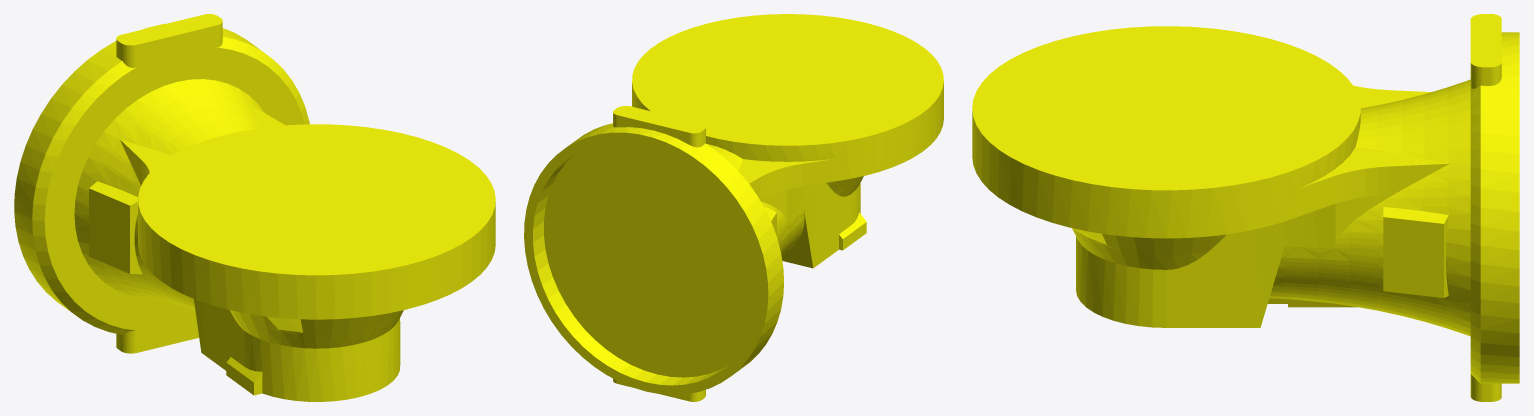
3 views of the same model, side by side, from view 1: azimuth 30°, elevation 25°; view 2: azimuth 150°, elevation 25°; view 3: azimuth 270°, elevation 25° (orthographic). The views are drawn at different scales.
Visible parts, largest first — view 1: node; view 2: node; view 3: node.
Boxes of the visible parts, x1,y1,x2,y2 form: node: (14, 14, 495, 401); node: (524, 14, 943, 401); node: (972, 14, 1519, 401).
Size of the model in its own units: 351 by 334 by 495.
